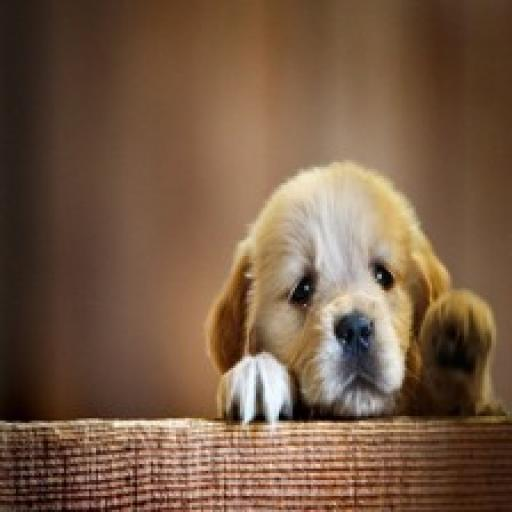dog: (200, 151, 493, 443)
